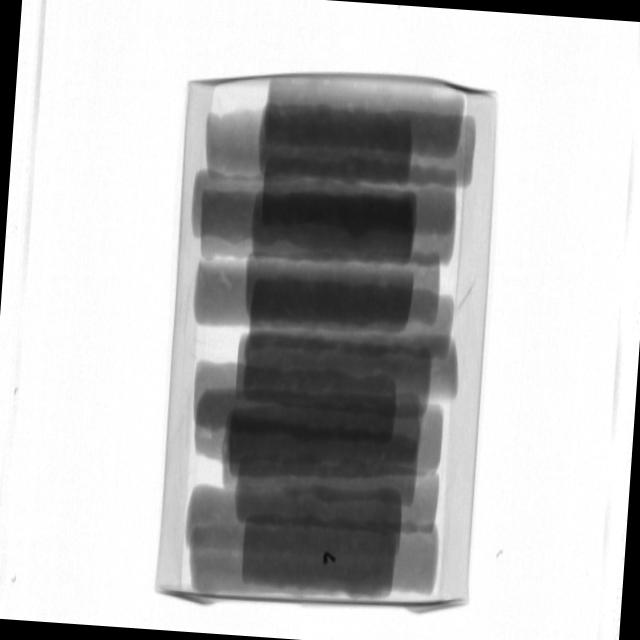ym: (323, 551, 338, 564)
